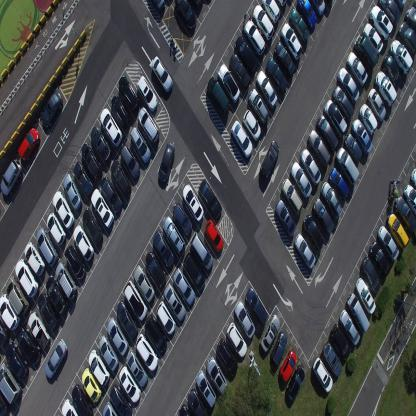car: (123, 279, 148, 321), (233, 34, 258, 75), (335, 146, 360, 187), (91, 186, 115, 228), (5, 276, 29, 318), (44, 337, 68, 379), (14, 258, 39, 298), (198, 179, 222, 220), (206, 76, 230, 117), (217, 63, 241, 104), (346, 292, 370, 333), (392, 195, 416, 236), (136, 106, 160, 146), (4, 341, 28, 381), (307, 128, 331, 168), (163, 215, 186, 256), (36, 227, 59, 268), (100, 106, 122, 148), (37, 290, 59, 332), (27, 311, 50, 351), (115, 300, 138, 340), (144, 314, 167, 354), (245, 286, 268, 326), (320, 181, 343, 221), (324, 99, 347, 139), (17, 327, 41, 365), (354, 33, 378, 71), (100, 174, 122, 215), (53, 190, 75, 231), (56, 261, 78, 302), (190, 232, 213, 271), (152, 230, 175, 269), (135, 333, 158, 372), (118, 364, 141, 403), (386, 213, 410, 250), (389, 38, 413, 75), (0, 362, 21, 404), (231, 118, 253, 158), (117, 73, 139, 113), (90, 124, 112, 164), (82, 207, 104, 247), (46, 275, 68, 315), (134, 263, 156, 303), (0, 157, 22, 197), (106, 316, 128, 356), (195, 369, 217, 409), (259, 314, 281, 354), (354, 275, 376, 315), (290, 160, 312, 200), (173, 268, 196, 306), (183, 252, 206, 290), (243, 18, 266, 56), (247, 88, 270, 126), (375, 70, 398, 108), (369, 5, 393, 41), (182, 184, 204, 223), (88, 348, 110, 387), (126, 349, 148, 388), (234, 300, 256, 339), (281, 177, 303, 216), (64, 244, 87, 281), (81, 141, 102, 181), (275, 198, 296, 238), (136, 74, 158, 112), (40, 92, 62, 130), (164, 283, 186, 321), (228, 52, 250, 90), (252, 3, 274, 41), (256, 70, 278, 108), (151, 55, 173, 93), (216, 338, 238, 376), (338, 308, 360, 346), (377, 224, 399, 262), (300, 147, 322, 185), (312, 196, 334, 234), (316, 114, 338, 152), (332, 86, 354, 124), (17, 127, 40, 163), (337, 67, 360, 103), (281, 22, 302, 61), (266, 56, 288, 93), (294, 233, 316, 270), (130, 126, 151, 164), (98, 334, 119, 372), (206, 356, 227, 394), (111, 158, 131, 197), (260, 140, 280, 179), (360, 255, 380, 294), (226, 322, 247, 359), (312, 356, 333, 393), (330, 323, 351, 360), (369, 241, 390, 278), (303, 214, 324, 251), (158, 141, 176, 184), (74, 160, 94, 198), (74, 224, 94, 262), (0, 293, 20, 331), (285, 364, 305, 402), (109, 93, 130, 129), (119, 144, 140, 180), (25, 241, 46, 277), (289, 7, 310, 43), (347, 51, 368, 87), (381, 53, 402, 89), (146, 252, 166, 289), (63, 174, 83, 211), (322, 341, 342, 378), (352, 118, 372, 155), (110, 382, 132, 415), (362, 22, 384, 55), (46, 210, 66, 246), (82, 367, 102, 403), (71, 383, 93, 415), (274, 41, 294, 76), (329, 166, 349, 201), (367, 87, 386, 123), (172, 202, 192, 236), (242, 108, 262, 142), (358, 102, 378, 136), (270, 330, 288, 367), (174, 0, 196, 30), (157, 300, 176, 334), (278, 350, 297, 384), (204, 219, 223, 252), (398, 22, 416, 55), (344, 133, 363, 164), (187, 387, 208, 415), (298, 0, 316, 30), (402, 182, 416, 218), (379, 0, 400, 22), (262, 0, 280, 23), (61, 398, 78, 416), (0, 314, 9, 347), (405, 5, 416, 32), (310, 0, 326, 18), (102, 401, 118, 415), (186, 0, 204, 11), (0, 392, 8, 415), (150, 0, 165, 12), (178, 403, 193, 415), (409, 166, 416, 191), (274, 0, 288, 8), (395, 0, 408, 8)
